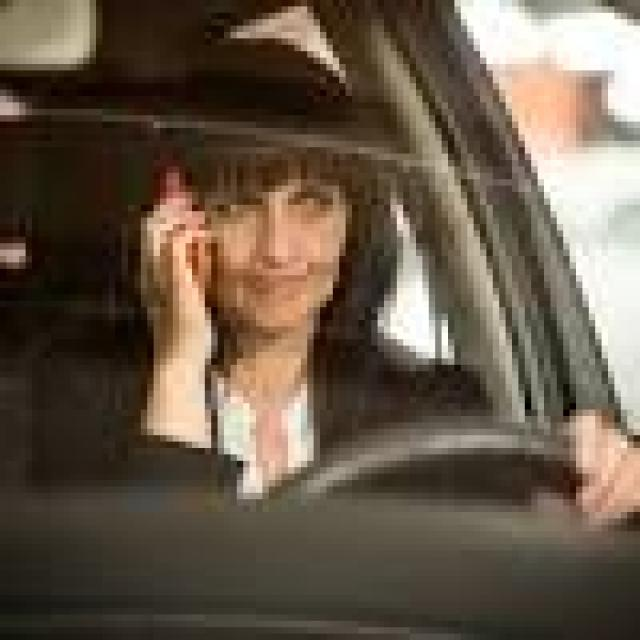Cellphone_calling: (115, 147, 243, 378)
